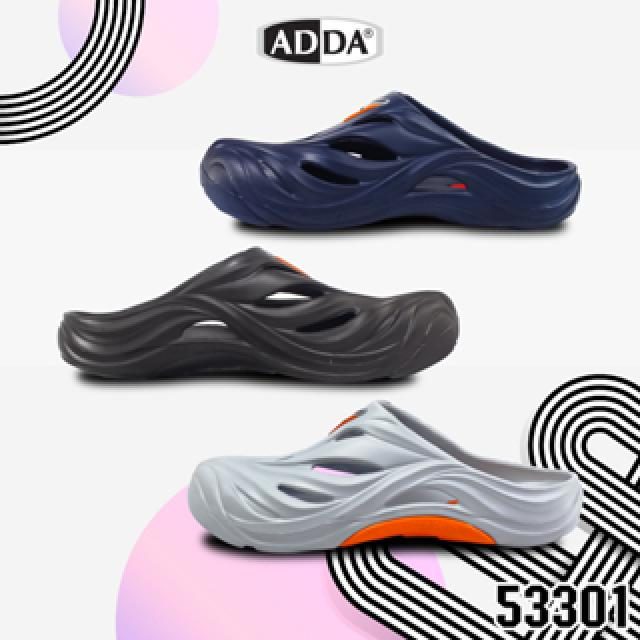shoe: (181, 396, 579, 545), (59, 241, 461, 385), (196, 91, 581, 234)
